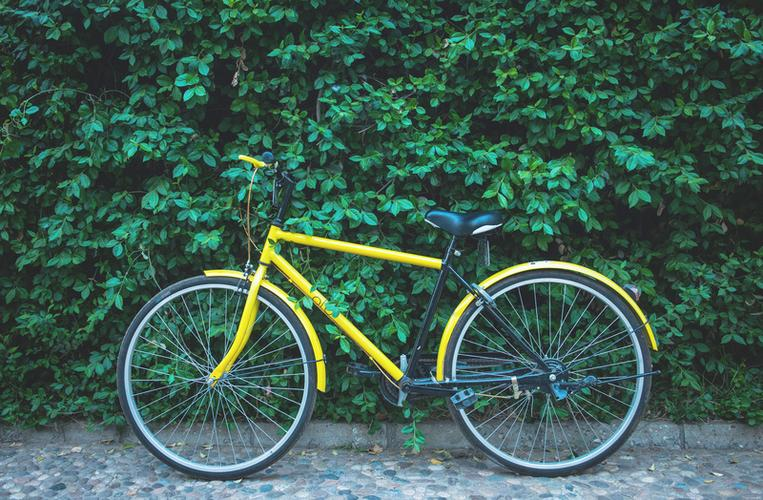单车: (114, 138, 684, 489)
